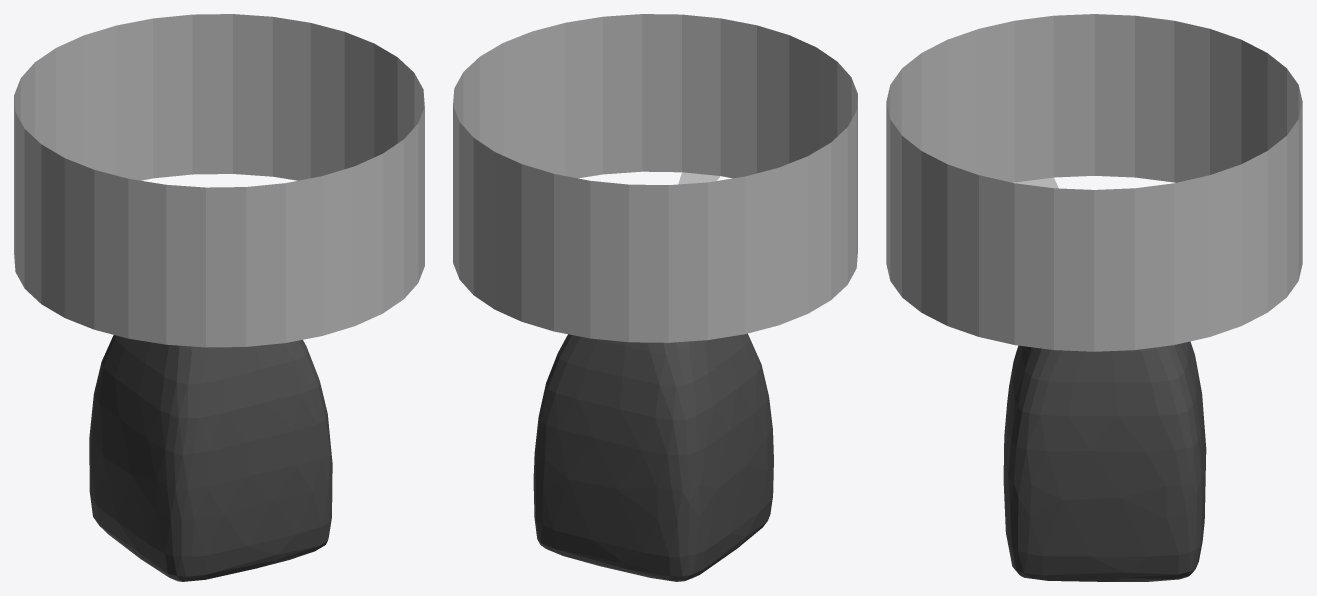
The model's file is desk-lamp.gltf.
The picture shows the model from 3 angles, left to right: view 1: azimuth 30°, elevation 25°; view 2: azimuth 150°, elevation 25°; view 3: azimuth 270°, elevation 25°; orthographic projection. The views are drawn at different scales.
Visible parts, largest first — view 1: Lamp; view 2: Lamp; view 3: Lamp.
Boxes of the visible parts, x1,y1,x2,y2 form: Lamp: (14,14,424,581); Lamp: (453,14,857,581); Lamp: (886,14,1302,581).
Size of the model in its own units: 0.2933 by 0.3519 by 0.2933.
1 material, 1 textured.
